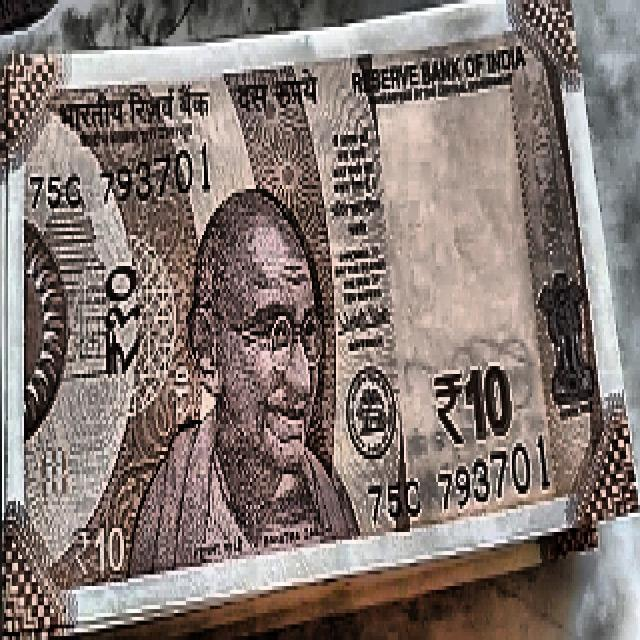-10-: (6, 29, 602, 562)
